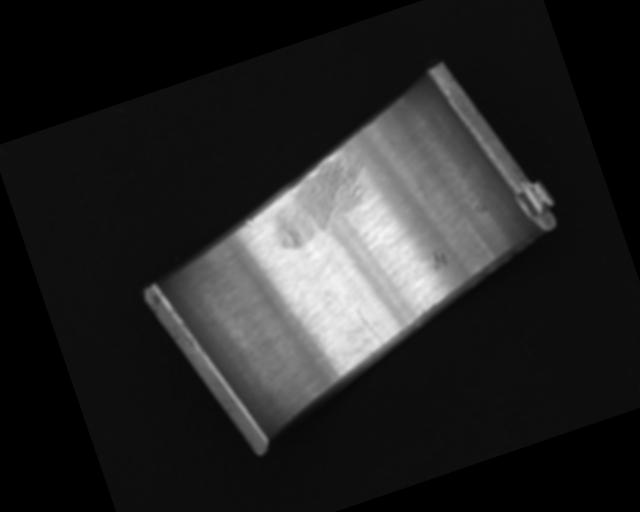bruise: (428, 248, 450, 273), (243, 217, 255, 228)
nick: (354, 303, 386, 353)
scratch: (255, 146, 383, 254)
